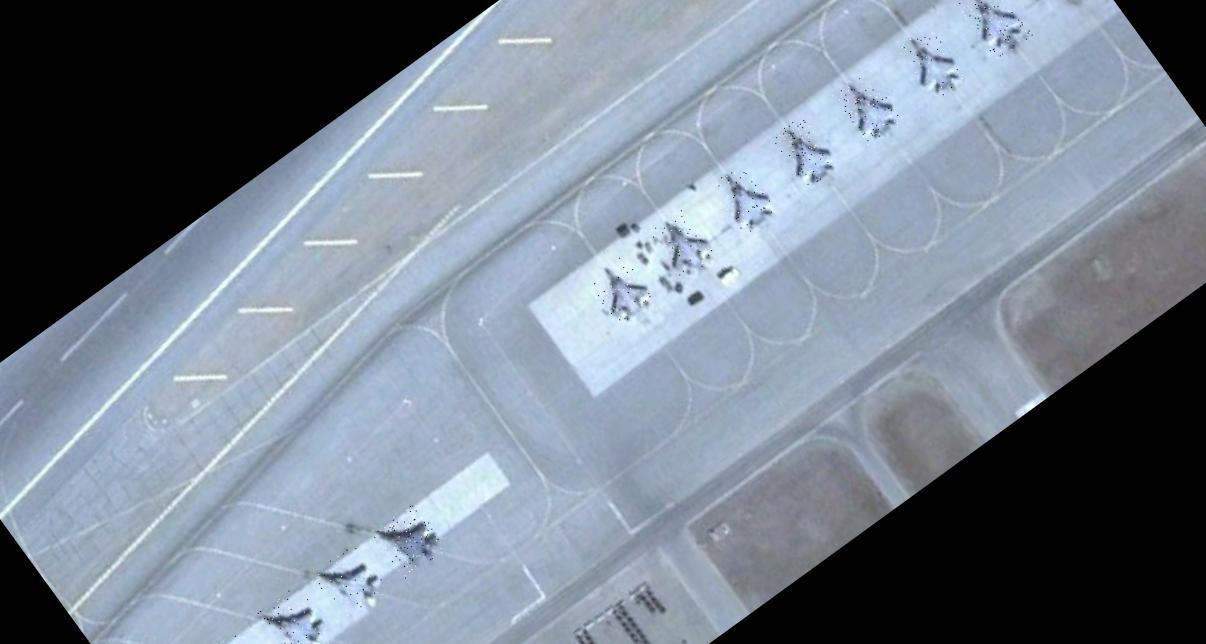A13: (311, 542, 390, 621), (370, 500, 448, 580), (894, 22, 968, 102), (707, 159, 781, 237), (832, 68, 904, 146), (770, 114, 840, 192), (255, 583, 336, 644), (956, 0, 1034, 61), (198, 627, 273, 644)
A15: (585, 252, 657, 329), (647, 207, 718, 282)
